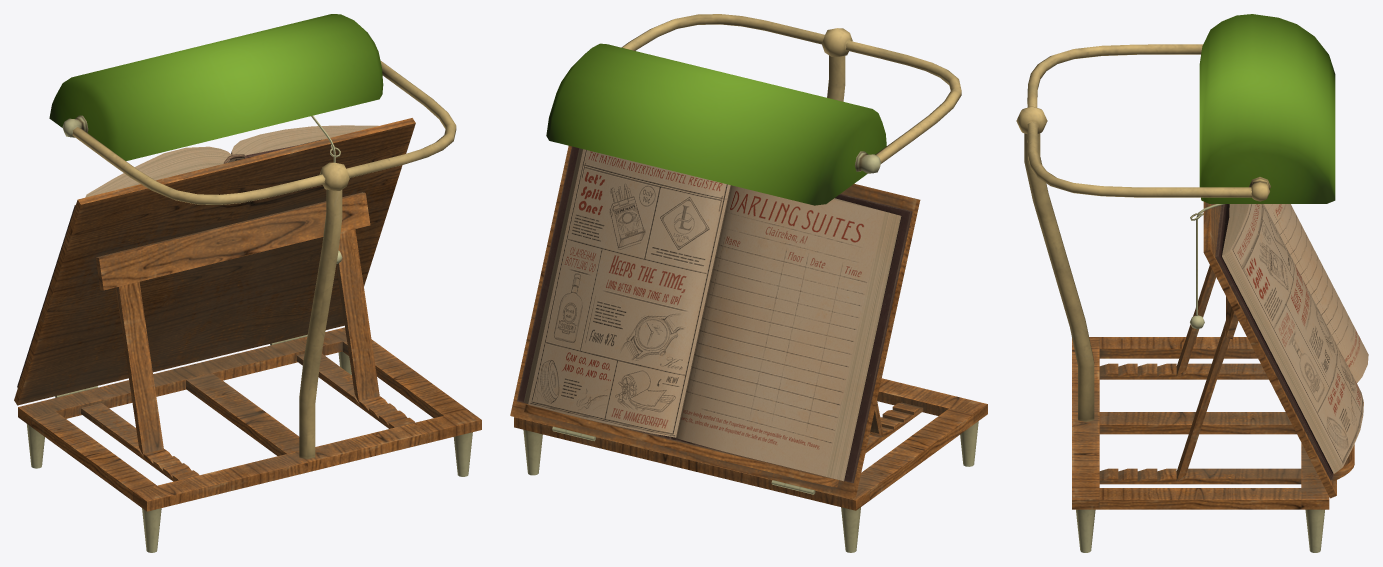
The model's file is BookStand.glb.
3 views of the same model, side by side, from view 1: azimuth 30°, elevation 25°; view 2: azimuth 150°, elevation 25°; view 3: azimuth 270°, elevation 25° (orthographic). The views are drawn at different scales.
Visible parts, largest first — view 1: GuestBookHolder; view 2: GuestBookHolder; view 3: GuestBookHolder.
Boxes of the visible parts, <box> form: GuestBookHolder: <box>14,14,481,552</box>; GuestBookHolder: <box>510,14,987,552</box>; GuestBookHolder: <box>1016,14,1368,552</box>.
Size of the model in its own units: 0.3317 by 0.3781 by 0.3034.
Materials: 2 (2 with a texture image).
